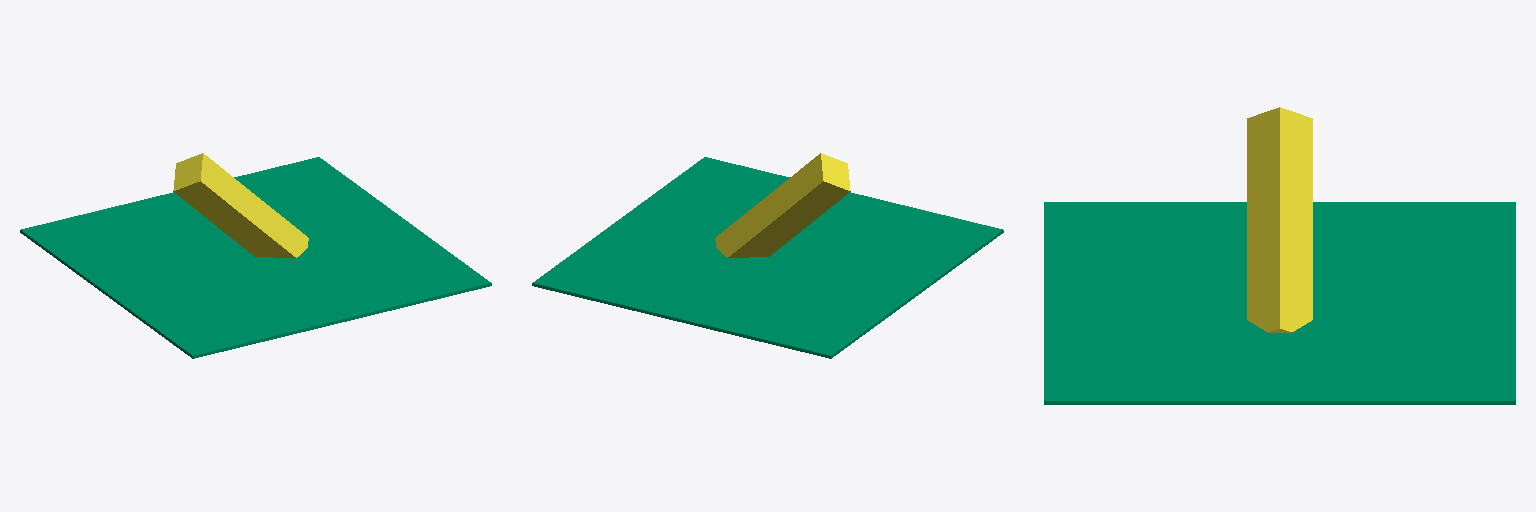
URDF robot description (ground_skeleton):
<?xml version="1.0"?>
<robot name="ground_skeleton">
    <link name="world" />
    <link name="world_frame">
        <inertial>
            <mass value="0.000000001" />
            <origin xyz="0 0 0" rpy="0 0 0" />
            <inertia ixx="0.000000001" ixy="0.000000001" ixz="0.000000001" iyy="1.0" iyz="0" izz="1.0" />
        </inertial>
    </link>
    <link name="ground">
         <collision>
            <origin xyz= "0 0 0" rpy="0. 0 0" />
            <geometry>
                <box size="10 10 0.1" />
            </geometry>
        </collision>
         <visual name="visual">
            <origin xyz = "0 0 0" rpy="0. 0 0" />
            <geometry>
                <box size="10 10 0.1" />
            </geometry>
        </visual>
        <inertial>
            <mass value="1.0" />
            <origin xyz="0 0 0" rpy="0 0 0" />
            <inertia ixx="1.0" ixy="0" ixz="0" iyy="1.0" iyz="0" izz="1.0" />
        </inertial>
    </link>
    <link name="ground_link">
         <collision>
            <origin xyz= "-0.50 -0.50 0" rpy="0. 0 0" />
            <geometry>
                <box size="1.0 1.0 5.00" />
            </geometry>
        </collision>
         <visual name="visual">
            <origin xyz = "-0.50 -0.50 0" rpy="0. 0 0" />
            <geometry>
                <box size="1.00 1.00 5.00" />
            </geometry>
        </visual>
        <inertial>
            <mass value="1.0" />
            <origin xyz="0 0 0" rpy="0 0 0" />
            <inertia ixx="1.0" ixy="0" ixz="0" iyy="1.0" iyz="0" izz="1.0" />
        </inertial>
    </link>
    <joint name="ground_joint" type="fixed">
        <origin xyz="0.0 0.0 0.0" rpy="0.6154796 -0.5235987 -0.9553166" />
        <parent link="world" />
        <child link="ground_link" />
    </joint>
    <joint name="frame_joint" type="fixed">
        <origin xyz="0 0 0" rpy="0 0 0" />
        <parent link="world" />
        <child link="world_frame" />
    </joint>
    <joint name="ground_flat_joint" type="fixed">
        <origin xyz="0.0 0.0 -2.0" rpy="0 0.0 0.0" />
        <parent link="world" />
        <child link="ground" />
    </joint>
</robot>

--- Render facts (derived) ---
3 views of the same robot in one strip: view 1: azimuth 30°, elevation 25°; view 2: azimuth 150°, elevation 25°; view 3: azimuth 270°, elevation 25° (orthographic).
Robot: ground_skeleton — 4 links, 3 joints (3 fixed); root link world; default pose: every joint at zero.
Visible links, largest first — view 1: ground, ground_link; view 2: ground, ground_link; view 3: ground, ground_link.
Boxes of the visible links, <box> form: ground: <box>20,157,491,358</box>; ground_link: <box>173,153,308,257</box>; ground: <box>532,157,1003,358</box>; ground_link: <box>715,153,850,257</box>; ground: <box>1044,202,1515,404</box>; ground_link: <box>1247,107,1312,332</box>.
Bounding box of the posed robot: 10 × 10 × 4.54 m (x, y, z).
Geometry: primitives only (box / cylinder / sphere), no mesh files.